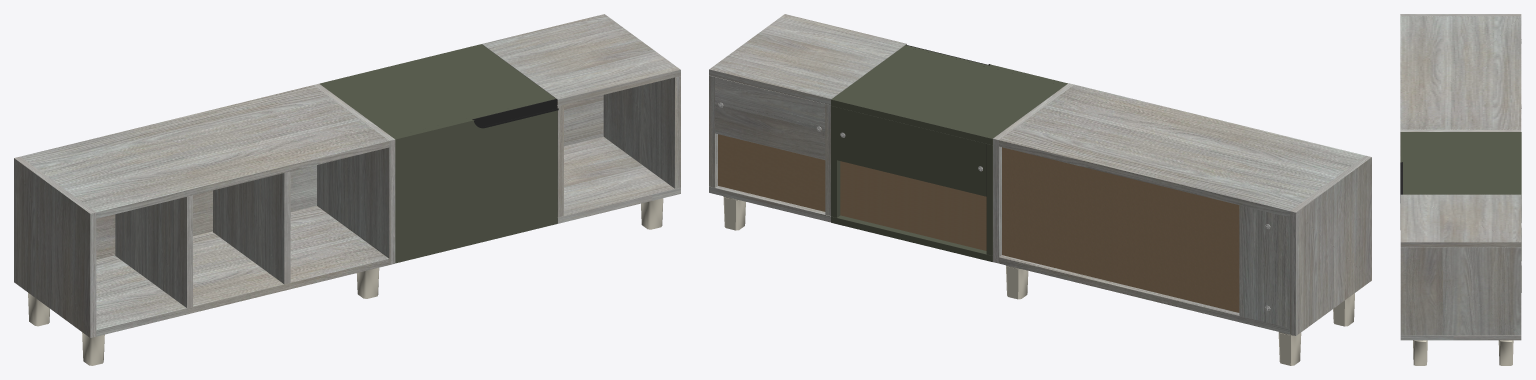
The picture shows the model from 3 angles, left to right: view 1: azimuth 30°, elevation 25°; view 2: azimuth 150°, elevation 25°; view 3: azimuth 270°, elevation 25°; orthographic projection. The views are drawn at different scales.
Parts seen in each view (by area): view 1: Cube.005, group_0.148, group_0.145, group_0.114, Plane, group_0.149; view 2: Cube.005, group_0.148, group_0.145, group_0.150, Plane.001, group_0.114; view 3: group_0.145, Cube.005, group_0.148, group_0.114.
Part boxes in pixels (x1,y1,x2,y2): Cube.005: (14,83,395,337); group_0.148: (319,44,557,263); group_0.145: (482,14,680,223); group_0.114: (28,198,663,365); Plane: (564,95,603,146); group_0.149: (472,99,558,128); Cube.005: (993,83,1371,335); group_0.148: (831,45,1067,261); group_0.145: (709,14,906,222); group_0.150: (840,161,986,250); Plane.001: (718,129,825,211); group_0.114: (723,196,1354,365); group_0.145: (1400,194,1521,340); Cube.005: (1400,14,1521,229); group_0.148: (1400,132,1521,292); group_0.114: (1413,340,1513,365).
Size of the model in its own units: 1.74 by 0.4532 by 0.391.
Materials: 10 (5 with a texture image).
